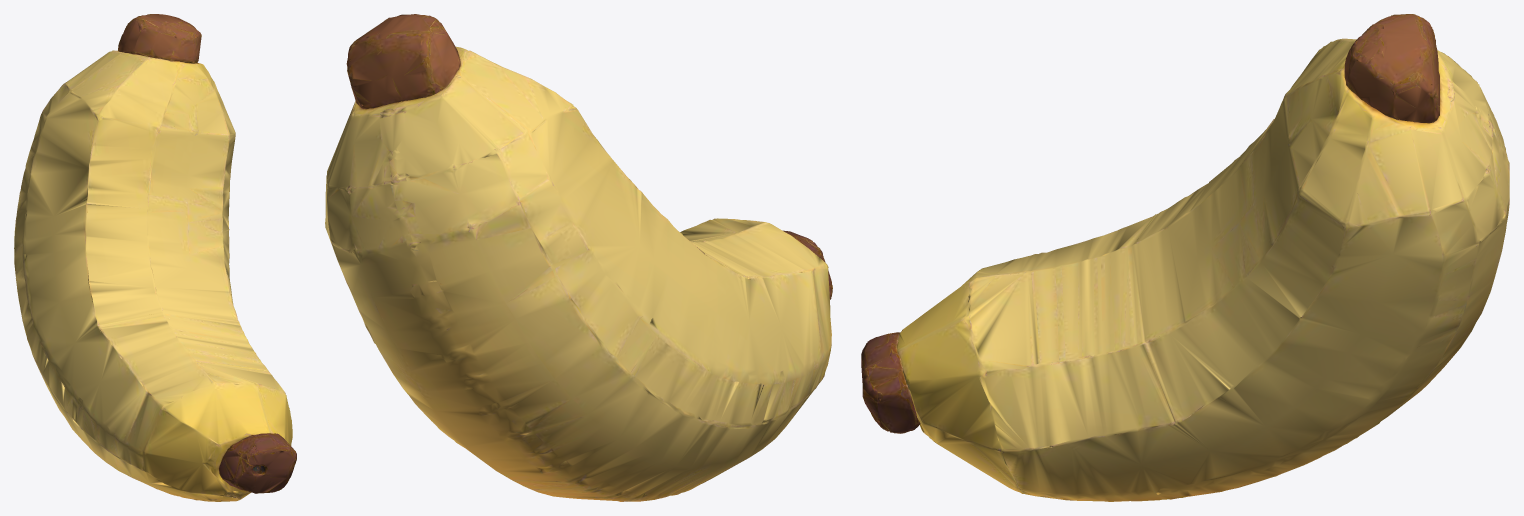
Rendered from banana.glb.
3 renders of one model, left to right at view 1: azimuth 30°, elevation 25°; view 2: azimuth 150°, elevation 25°; view 3: azimuth 270°, elevation 25°, orthographic. The views are drawn at different scales.
Parts seen in each view (by area): view 1: tripo_node_480b52ca-158a-4cf3-8b8b-cfe73345b940; view 2: tripo_node_480b52ca-158a-4cf3-8b8b-cfe73345b940; view 3: tripo_node_480b52ca-158a-4cf3-8b8b-cfe73345b940.
Part boxes in pixels (x1,y1,x2,y2): tripo_node_480b52ca-158a-4cf3-8b8b-cfe73345b940: [14, 14, 296, 501]; tripo_node_480b52ca-158a-4cf3-8b8b-cfe73345b940: [325, 14, 832, 501]; tripo_node_480b52ca-158a-4cf3-8b8b-cfe73345b940: [861, 14, 1509, 501].
Size of the model in its own units: 0.5684 by 0.8809 by 0.998.
Materials: 1 (1 with a texture image).
